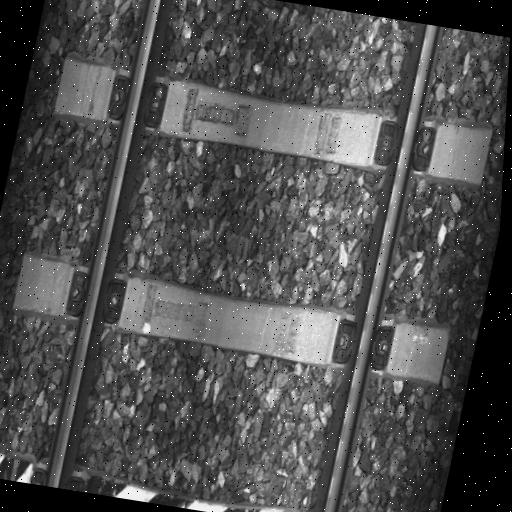sleeper: (49, 60, 495, 184), (9, 260, 453, 380), (0, 460, 410, 512)
